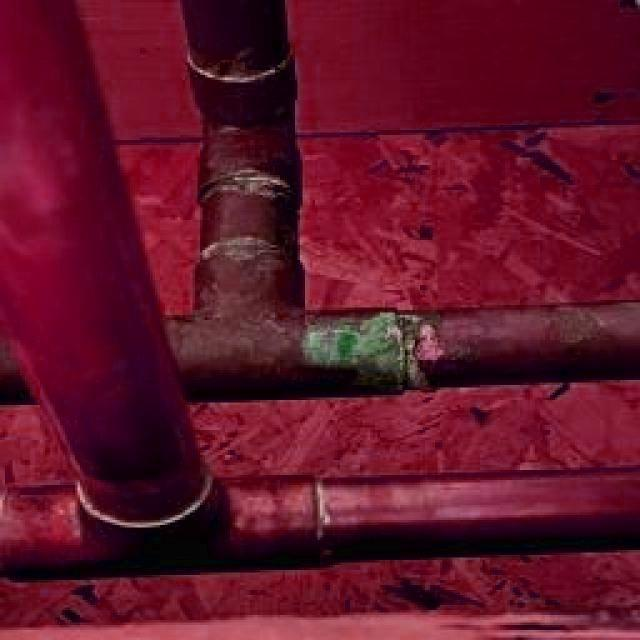rust: (177, 302, 639, 401), (187, 0, 304, 297)
